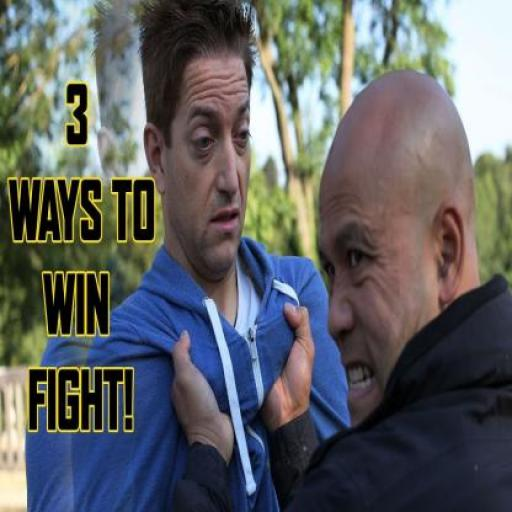Fighting: (28, 5, 510, 512)
